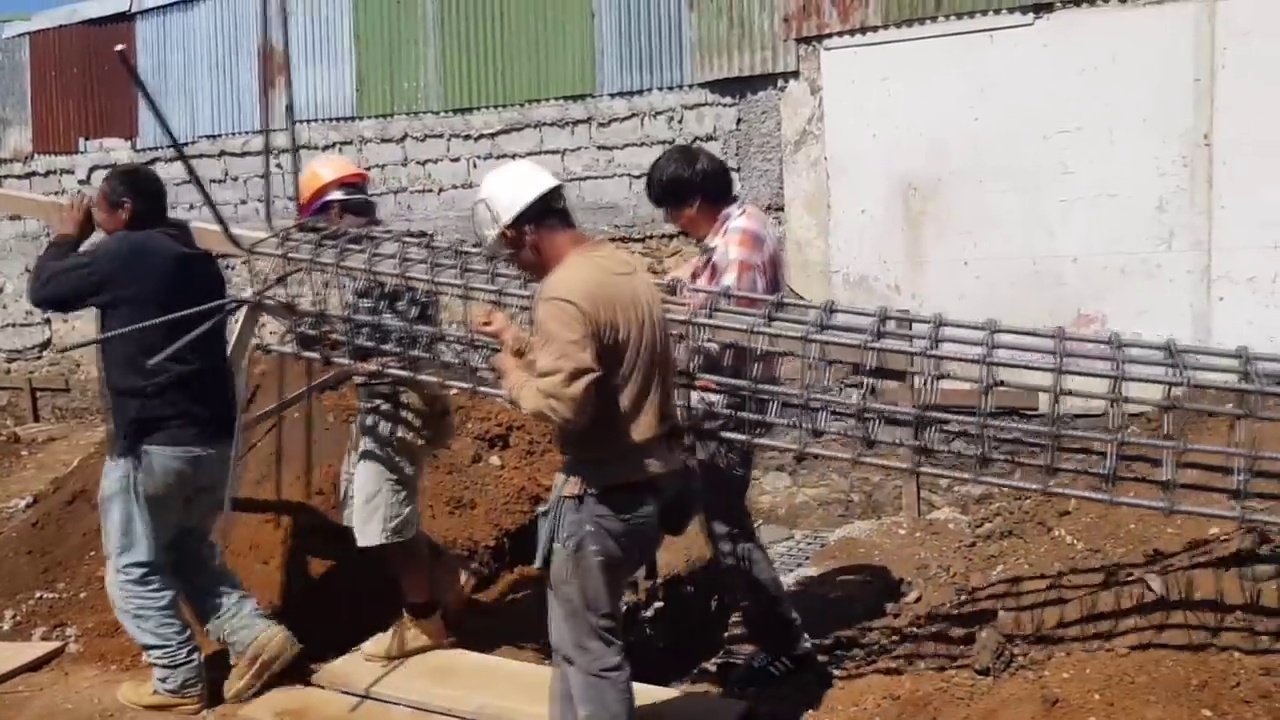helmet: (470, 158, 571, 256), (290, 152, 364, 220)
helmet-off: (649, 143, 739, 250), (81, 160, 161, 244)
helmet-on: (470, 152, 603, 283), (291, 150, 386, 244)
person: (459, 149, 690, 720), (49, 155, 265, 707), (286, 145, 476, 662), (649, 146, 822, 706)
